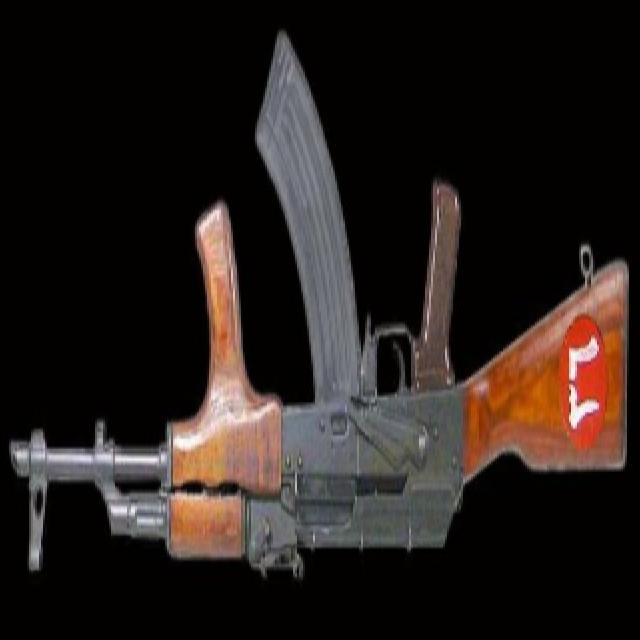rifle: (11, 38, 635, 584)
